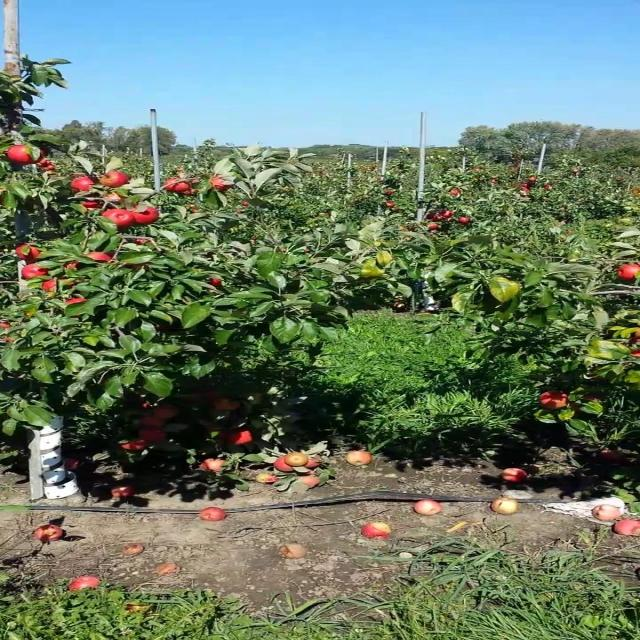apple: (7, 145, 44, 164), (102, 209, 136, 229), (540, 390, 569, 410), (131, 205, 160, 225), (100, 170, 129, 188), (16, 244, 42, 262), (20, 264, 49, 280), (42, 279, 76, 292), (71, 175, 96, 192), (227, 429, 253, 445), (138, 428, 167, 442), (162, 178, 191, 192), (151, 405, 178, 420), (167, 178, 192, 194), (209, 175, 233, 191), (618, 264, 640, 281), (120, 439, 149, 451), (213, 398, 240, 410), (203, 424, 226, 438), (84, 251, 113, 262), (201, 457, 223, 471), (272, 456, 292, 471), (140, 415, 163, 428), (62, 259, 84, 271), (102, 192, 124, 203), (36, 158, 56, 170), (64, 458, 82, 470), (131, 237, 153, 246), (204, 424, 223, 434), (82, 200, 102, 209), (204, 388, 218, 400), (582, 394, 604, 401), (438, 208, 453, 218), (64, 298, 87, 304), (209, 278, 222, 286), (140, 401, 151, 409)
